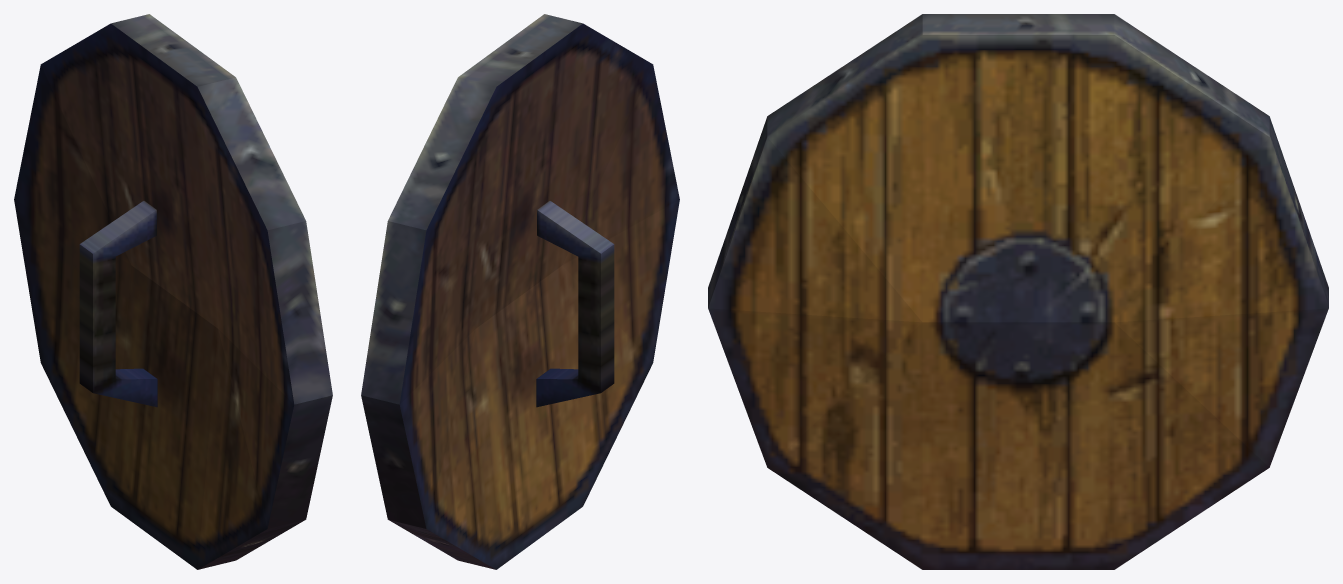
Rendered from Whale_commonWeapon_shield.obj.
The picture shows the model from 3 angles, left to right: view 1: azimuth 30°, elevation 25°; view 2: azimuth 150°, elevation 25°; view 3: azimuth 270°, elevation 25°; orthographic projection. The views are drawn at different scales.
Visible parts, largest first — view 1: Whale_commonWeapon_tri [shield]; view 2: Whale_commonWeapon_tri [shield]; view 3: Whale_commonWeapon_tri [shield].
Boxes of the visible parts, x1=… form: Whale_commonWeapon_tri [shield]: x1=14, y1=14, x2=332, y2=569; Whale_commonWeapon_tri [shield]: x1=361, y1=14, x2=679, y2=569; Whale_commonWeapon_tri [shield]: x1=708, y1=14, x2=1328, y2=569.
Size of the model in its own units: 0.2562 by 0.894 by 0.94.
1 material, 1 textured.
